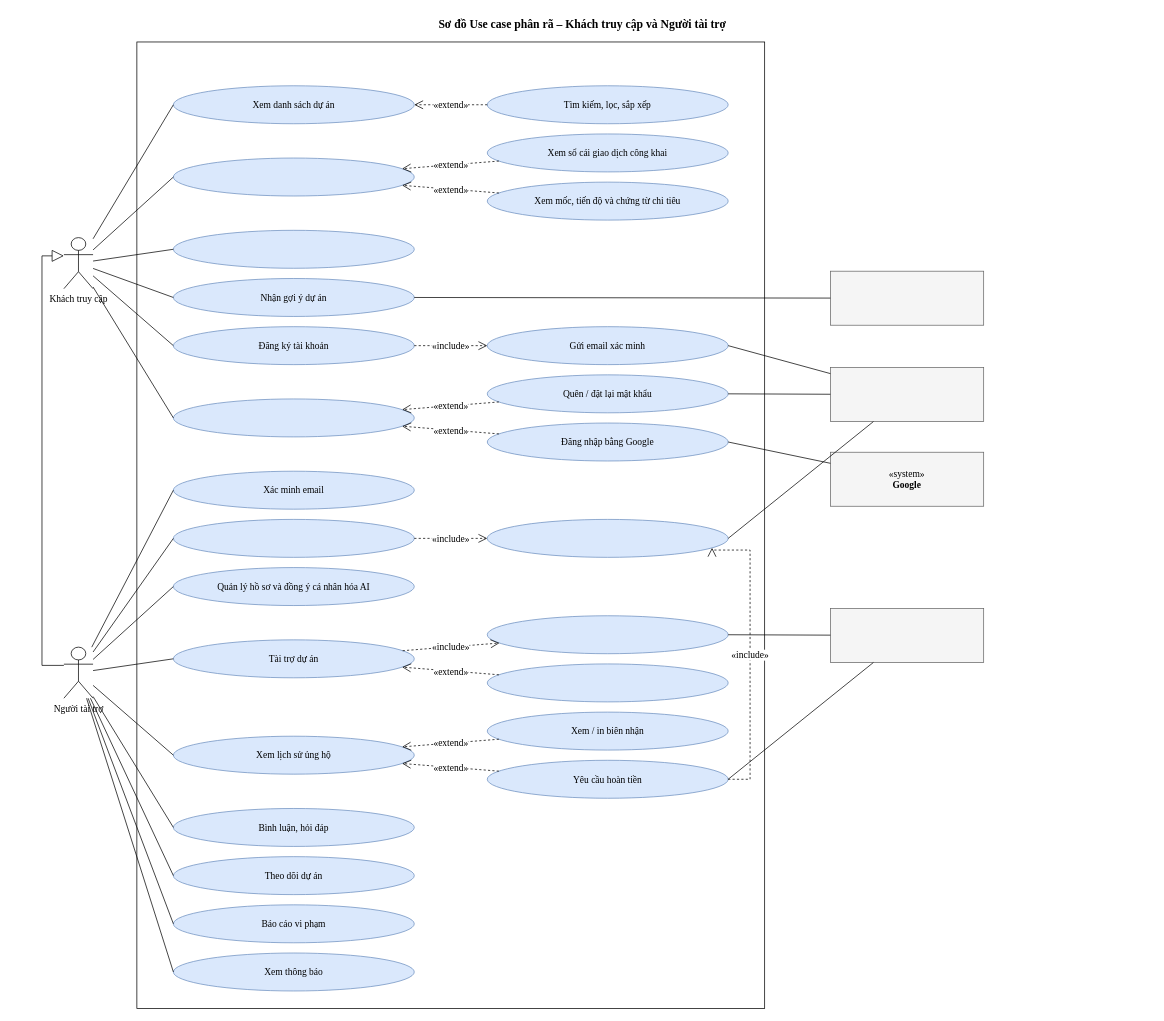
Some shapes in this 1164 by 1021 pixel diagram are drawn without their labels. Each missing label, with the box of its shape:
Chọn mức quà, gửi lời động viên: (487, 663, 728, 702)
Hệ thống Góp Mầm: (136, 41, 765, 1008)
Thanh toán (ví demo / QR SePay): (487, 615, 728, 654)
Xem chi tiết dự án: (173, 157, 414, 196)
Xem danh bạ và trang tổ chức: (173, 230, 414, 268)
Xác minh OTP qua email: (487, 519, 728, 557)
«system» Cổng thanh toán (ví demo, SePay): (830, 608, 984, 662)
«system» Dịch vụ AI: (830, 270, 984, 325)
«system» Dịch vụ email: (830, 367, 984, 422)
Đăng nhập: (173, 398, 414, 437)
Đổi mật khẩu, đăng xuất: (173, 519, 414, 557)
